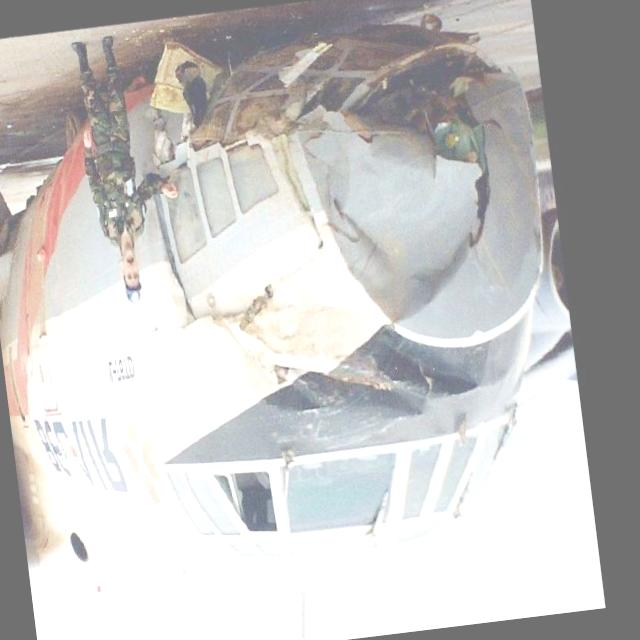dent: (306, 336, 462, 414)
